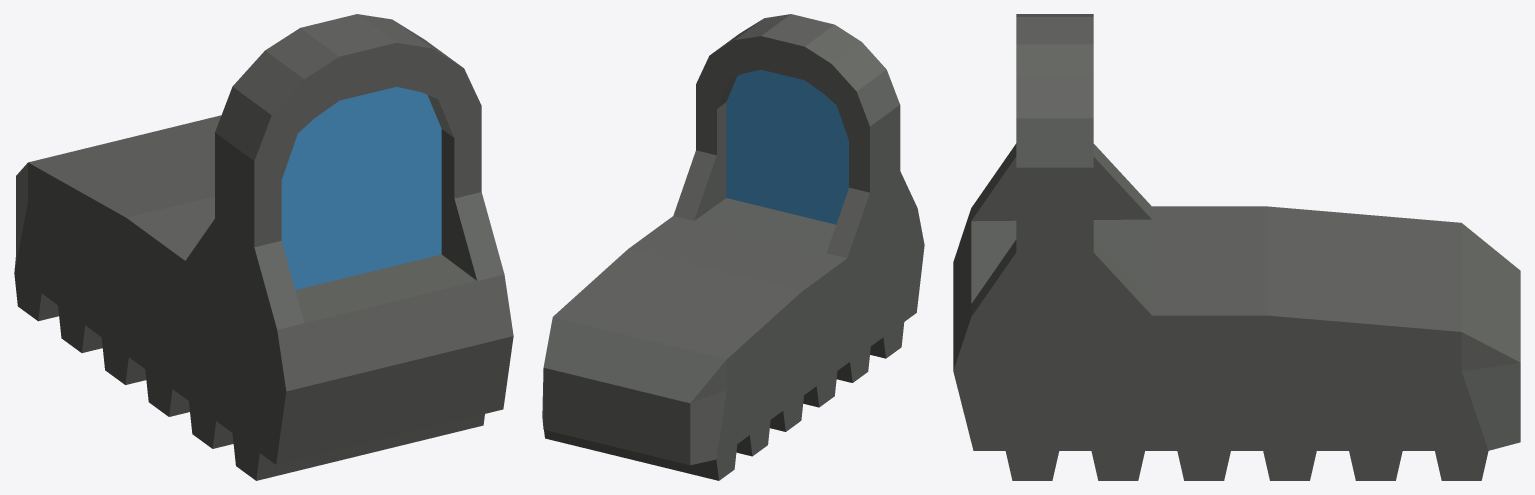
The model's file is Red_dot_sight.fbx.
3 renders of one model, left to right at view 1: azimuth 30°, elevation 25°; view 2: azimuth 150°, elevation 25°; view 3: azimuth 270°, elevation 25°, orthographic. The views are drawn at different scales.
Parts seen in each view (by area): view 1: Red_dot_sight, Red_dot_sight.001; view 2: Red_dot_sight, Red_dot_sight.001; view 3: Red_dot_sight.
Part boxes in pixels (left/top/right/bottom): Red_dot_sight: left=14, top=14, right=513, bottom=480; Red_dot_sight.001: left=281, top=87, right=441, bottom=289; Red_dot_sight: left=542, top=14, right=924, bottom=480; Red_dot_sight.001: left=726, top=69, right=848, bottom=224; Red_dot_sight: left=953, top=14, right=1520, bottom=480.
Size of the model in its own units: 25.25 by 42.68 by 55.47.
